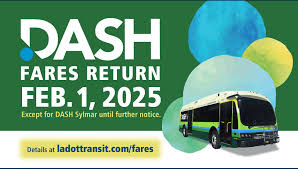bus: (178, 89, 281, 149)
